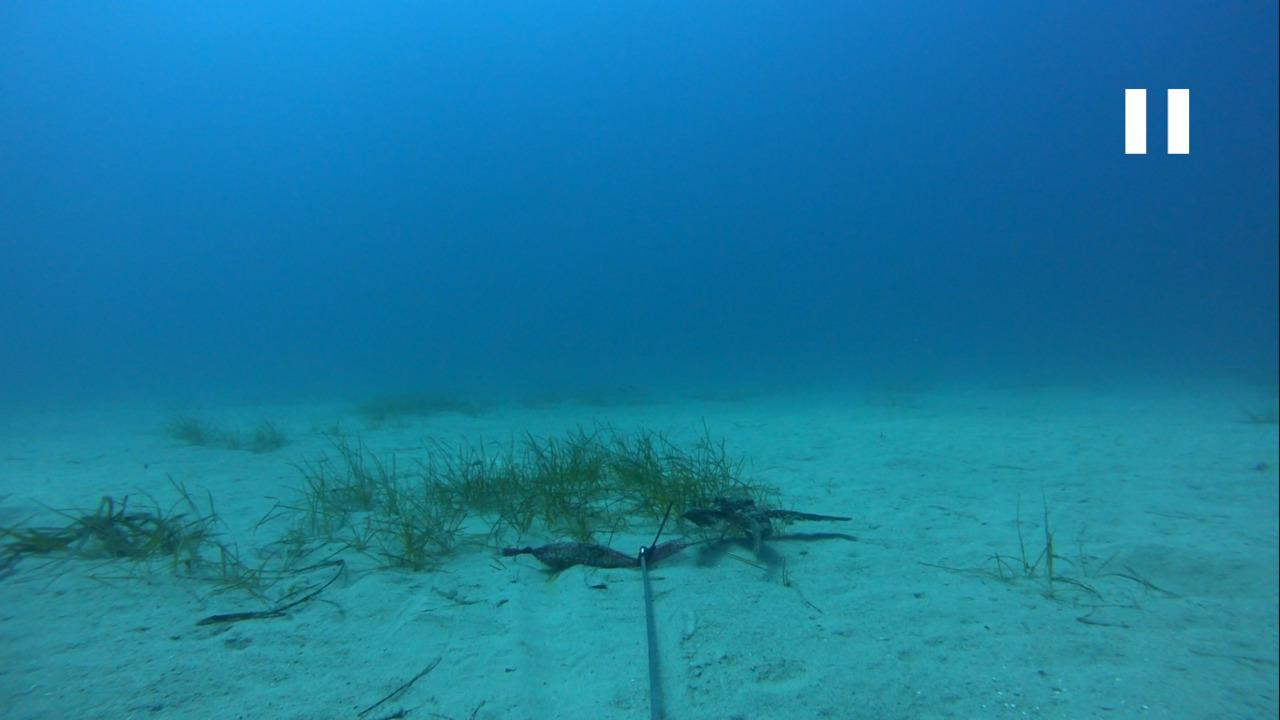dactylopterus: (674, 484, 848, 572)
